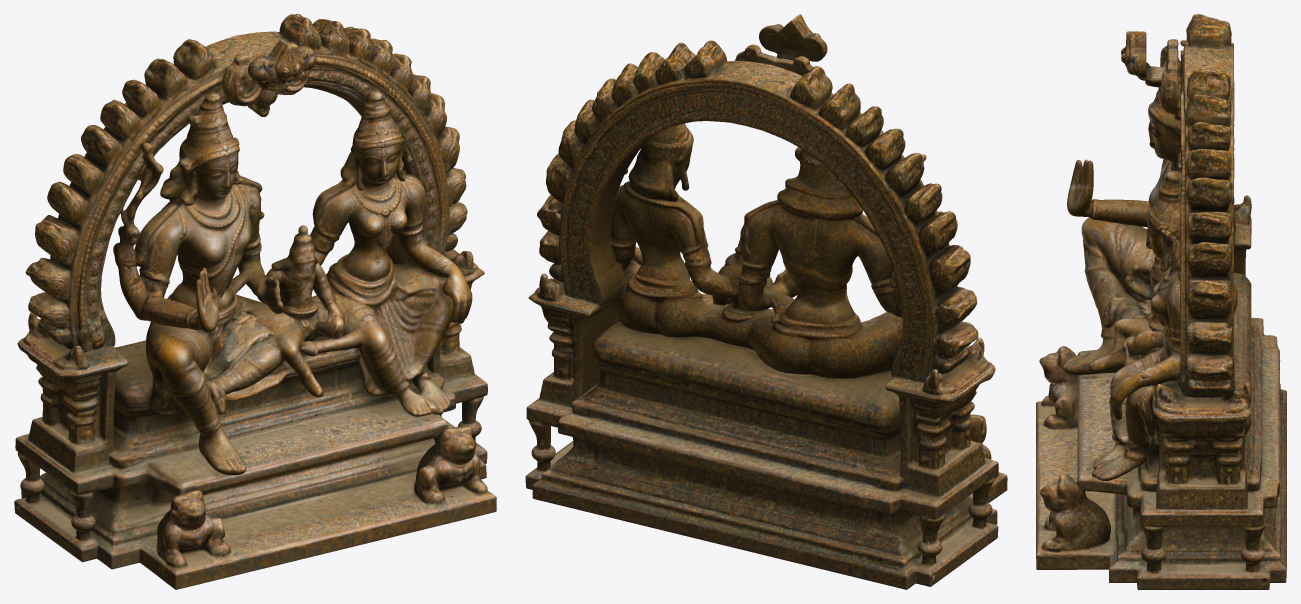
Rendered from bronze-deity-family-preview.glb.
The picture shows the model from 3 angles, left to right: view 1: azimuth 30°, elevation 25°; view 2: azimuth 150°, elevation 25°; view 3: azimuth 270°, elevation 25°; orthographic projection. The views are drawn at different scales.
Parts seen in each view (by area): view 1: tripo_node_e317f5a6-6dc1-4b9a-8c4d-50b5e7c18bda; view 2: tripo_node_e317f5a6-6dc1-4b9a-8c4d-50b5e7c18bda; view 3: tripo_node_e317f5a6-6dc1-4b9a-8c4d-50b5e7c18bda.
Part boxes in pixels (x1,y1,x2,y2): tripo_node_e317f5a6-6dc1-4b9a-8c4d-50b5e7c18bda: (14,14,496,589); tripo_node_e317f5a6-6dc1-4b9a-8c4d-50b5e7c18bda: (525,14,1007,589); tripo_node_e317f5a6-6dc1-4b9a-8c4d-50b5e7c18bda: (1036,14,1286,589).
Size of the model in its own units: 0.9499 by 1 by 0.4914.
1 material, 1 textured.
